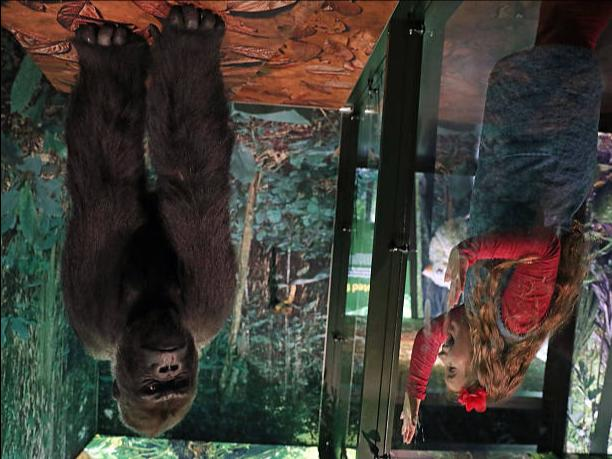gorille_Autres: (5, 16, 270, 455)
